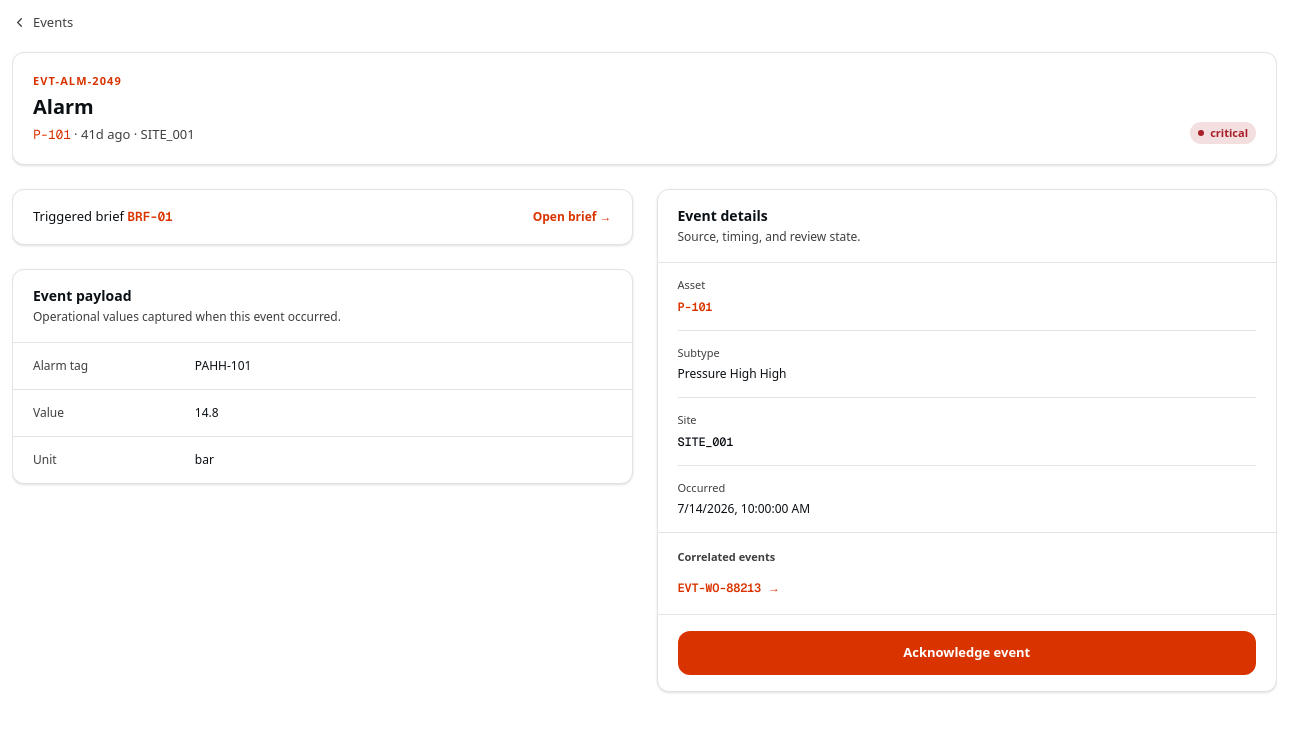
Test case: EventDetailPage › acknowledges with the signed-in user and updates the status
The image size is (1292, 732).
Click the button "Acknowledge event" at (967, 652), box [678,630,1256,674]
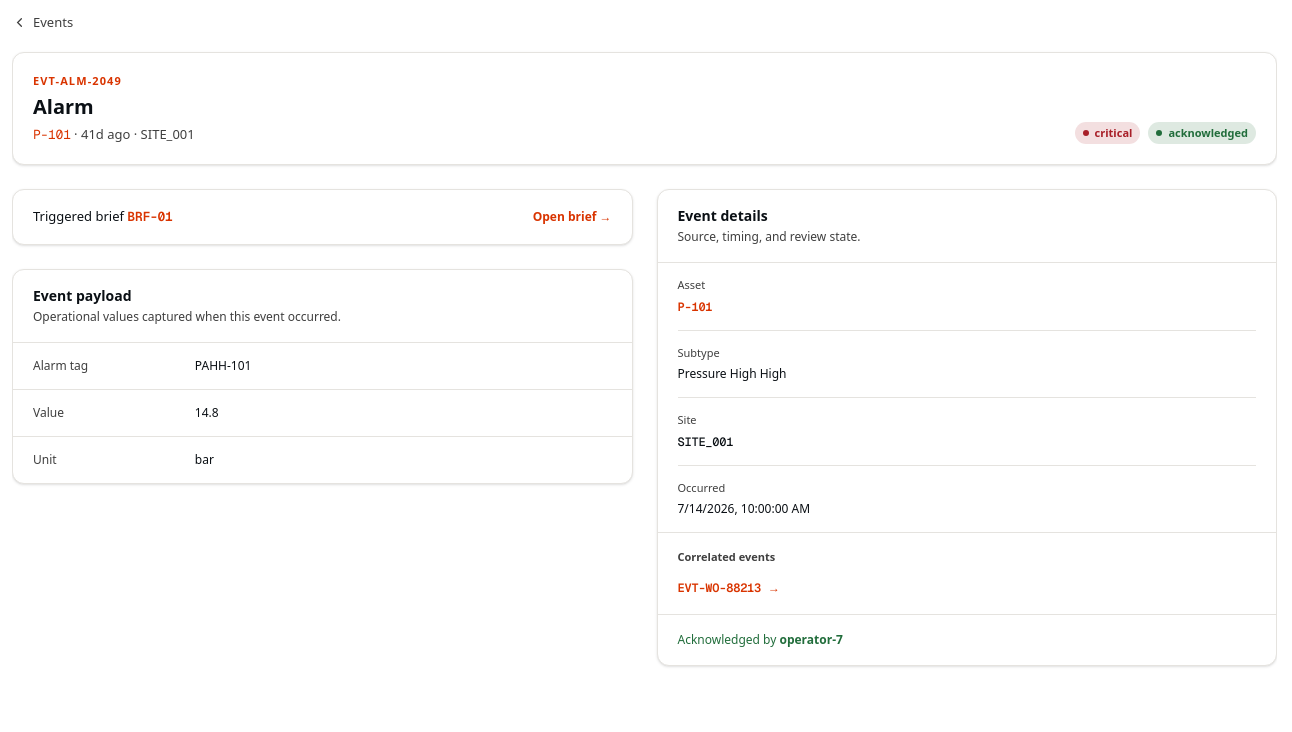
Expected: the text "Acknowledged by operator-7" is shown, [678,630,843,648]
